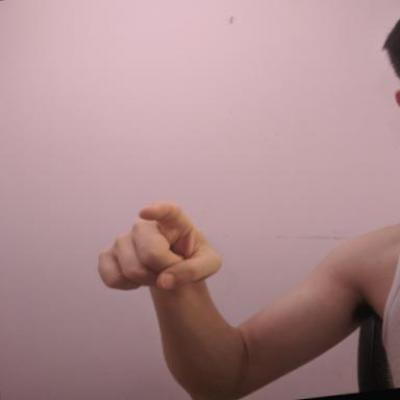hand: (88, 194, 229, 302)
